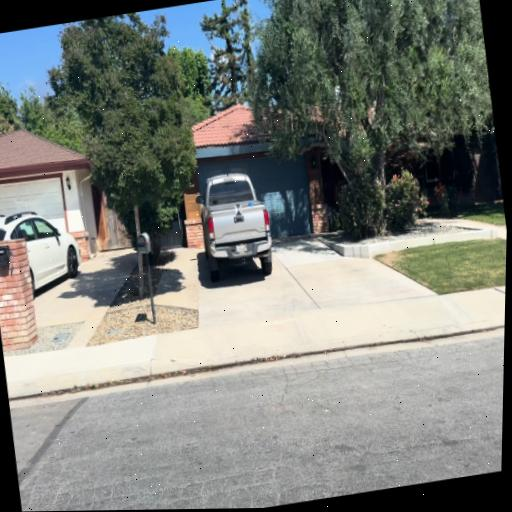target1: (235, 203, 243, 216)
